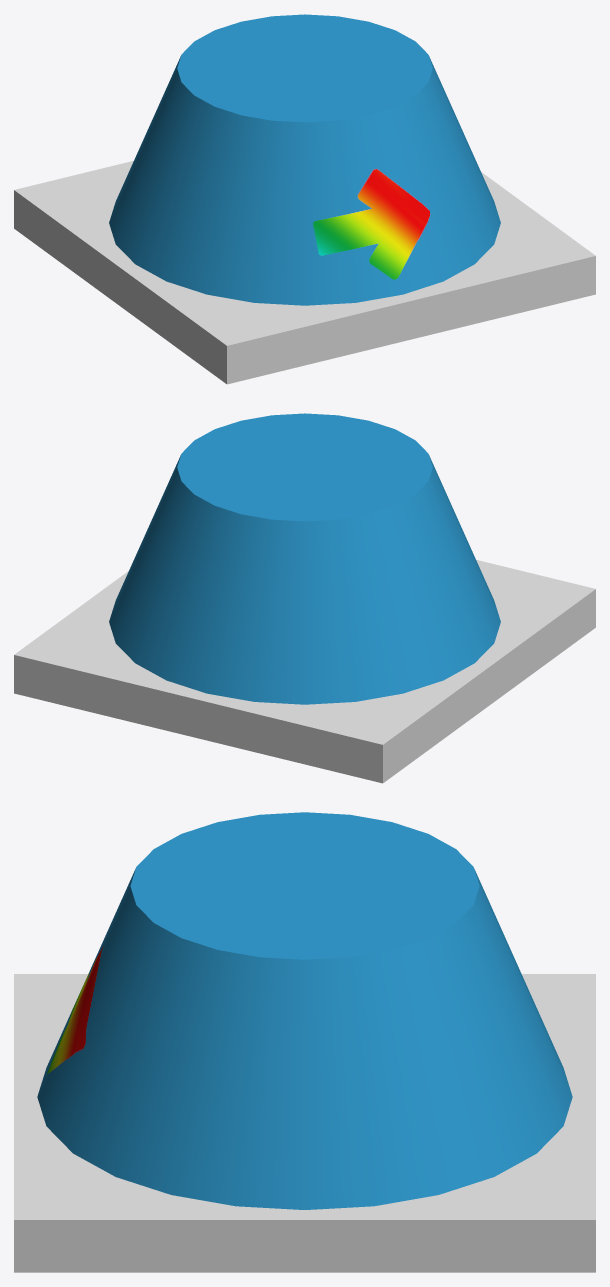
The model's file is switch.FBX.
3 renders of one model, top to bottom at view 1: azimuth 30°, elevation 25°; view 2: azimuth 150°, elevation 25°; view 3: azimuth 270°, elevation 25°, orthographic. The views are drawn at different scales.
Parts seen in each view (by area): view 1: Cone001, Box001; view 2: Cone001, Box001; view 3: Cone001, Box001.
Boxes of the visible parts, bbox=[...] form: Cone001: bbox=[109, 14, 500, 305]; Box001: bbox=[14, 160, 595, 384]; Cone001: bbox=[109, 413, 500, 704]; Box001: bbox=[14, 559, 595, 783]; Cone001: bbox=[37, 812, 572, 1209]; Box001: bbox=[14, 974, 595, 1272].
Bounding box in the file's own units: 100 × 50 × 100.
Materials: 1 (1 with a texture image).
